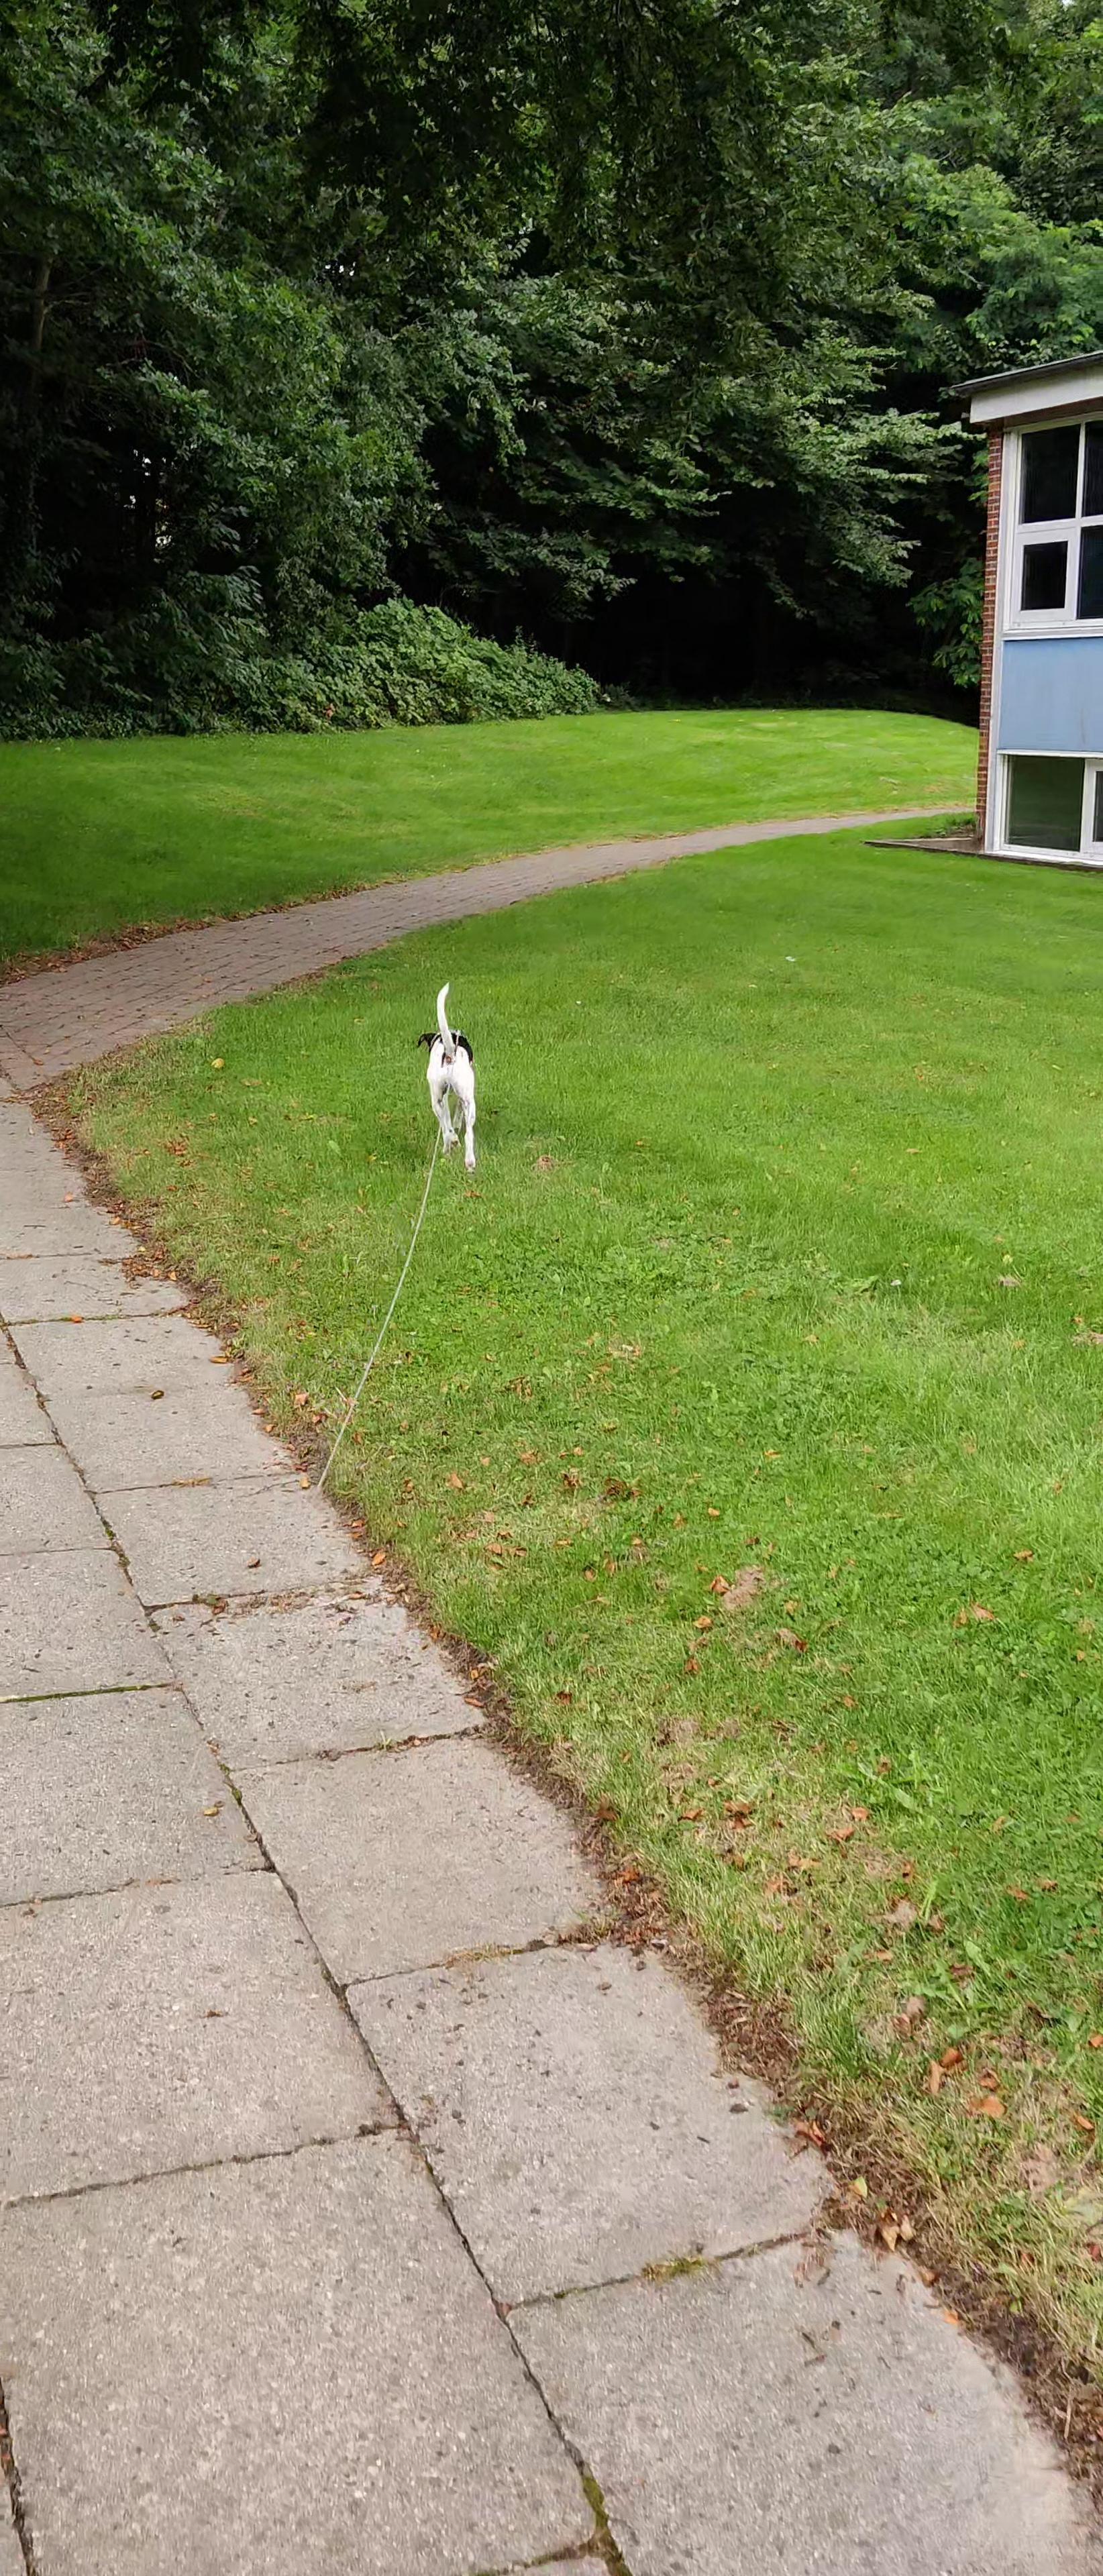Dog: (413, 977, 483, 1178)
